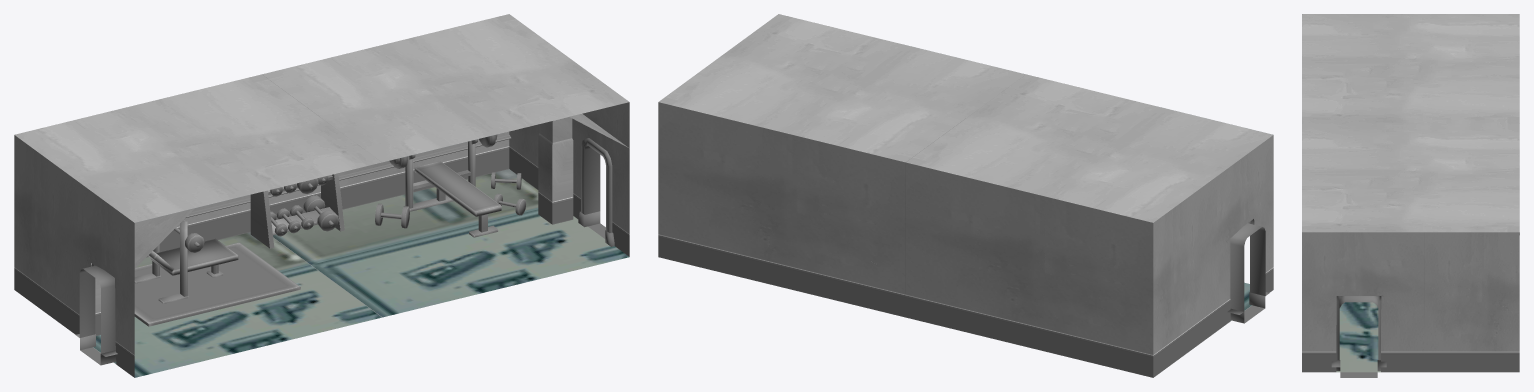
The model's file is MSH_GYM_room_L1_R2_optimized.fbx.
3 views of the same model, side by side, from view 1: azimuth 30°, elevation 25°; view 2: azimuth 150°, elevation 25°; view 3: azimuth 270°, elevation 25° (orthographic). The views are drawn at different scales.
Visible parts, largest first — view 1: lightmap1, lightmap0, lightmap-1; view 2: lightmap1, lightmap-1; view 3: lightmap1, lightmap-1.
Part boxes in pixels (x1,y1,x2,y2): lightmap1: (14, 14, 629, 377); lightmap0: (134, 134, 526, 326); lightmap-1: (79, 145, 605, 365); lightmap1: (658, 14, 1273, 377); lightmap-1: (1230, 223, 1265, 323); lightmap1: (1302, 14, 1519, 372); lightmap-1: (1339, 296, 1378, 377).
Bounding box in the file's own units: 20.61 × 5.91 × 8.27.
